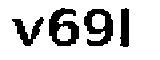6: (46, 5, 81, 48)
9: (81, 7, 114, 50)
l: (116, 4, 140, 51)
v: (8, 17, 45, 48)
